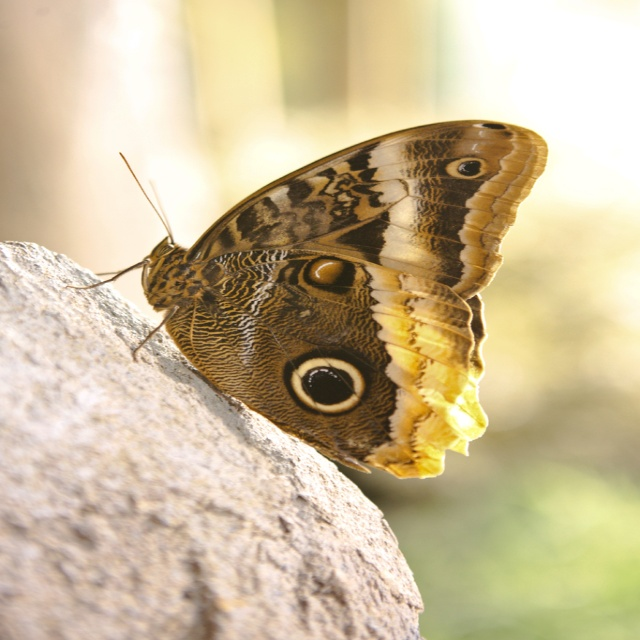Butterfly: (61, 119, 546, 477)
